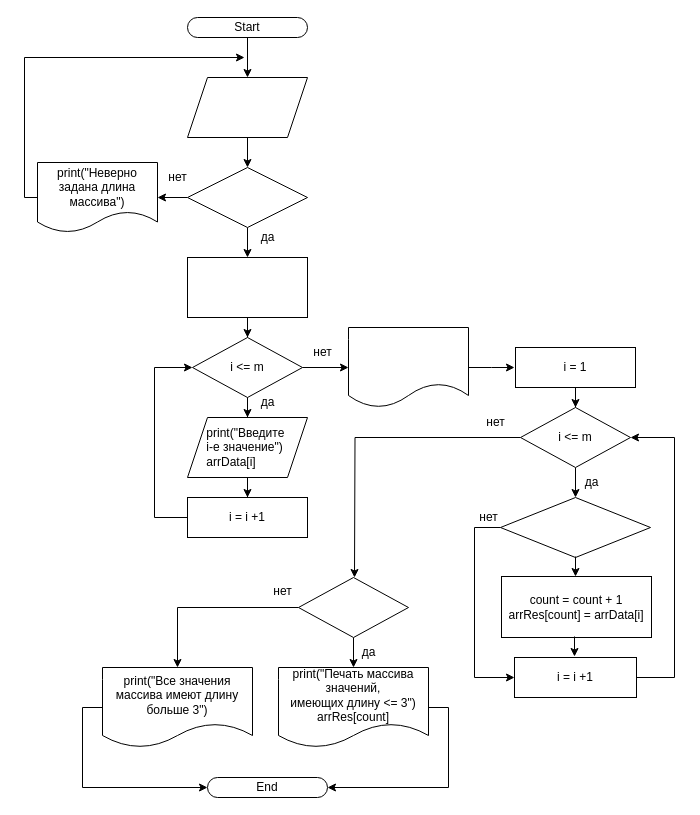
Some shapes in this 700 by 815 pixel diagram are drawn without their labels. Each missing label, with the box of its shape:
arrData[i].Length<=3: (500, 496, 650, 558)
arrData[m] arrRes[m] count = 0 i = 1: (186, 256, 308, 318)
count <> 0: (298, 576, 408, 638)
m > 0: (186, 166, 308, 228)
print("Введите длину массива") m: (186, 76, 308, 138)
print("Печать исходного массива") arrData[m]: (348, 326, 468, 408)
